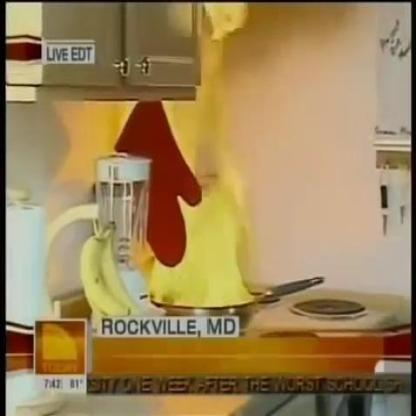fire: (126, 101, 258, 309)
